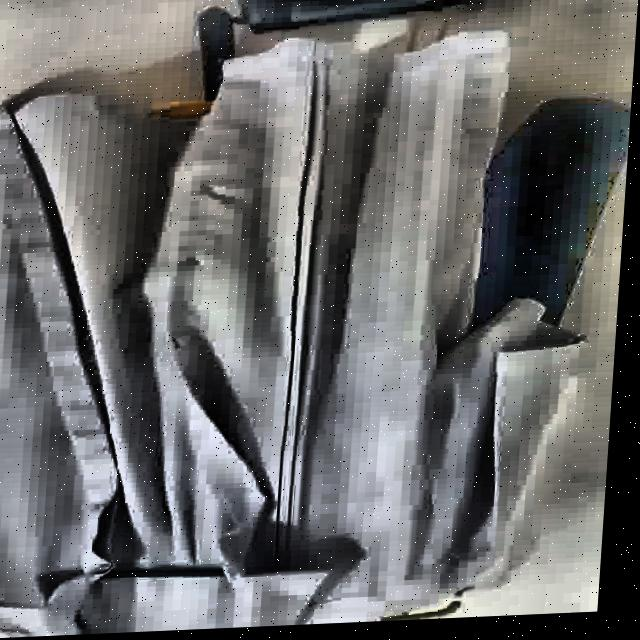clothes: (0, 3, 612, 640)
